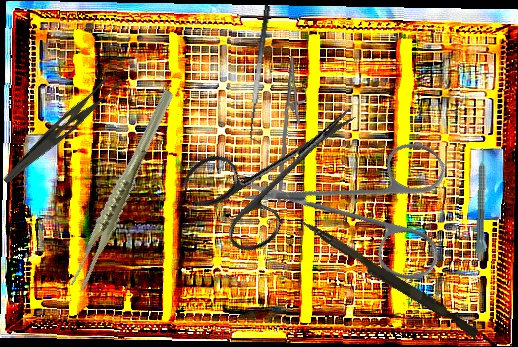Dressing Forceps: (2, 67, 124, 196)
Handpiece: (475, 147, 492, 262)
Iris Scissors: (235, 77, 493, 335), (177, 69, 384, 263)
Needle Holder: (272, 55, 310, 203)
Pusher: (295, 218, 483, 339)
Spatula Surgical: (242, 4, 283, 144)
Tissue Forceps: (37, 87, 209, 294)
